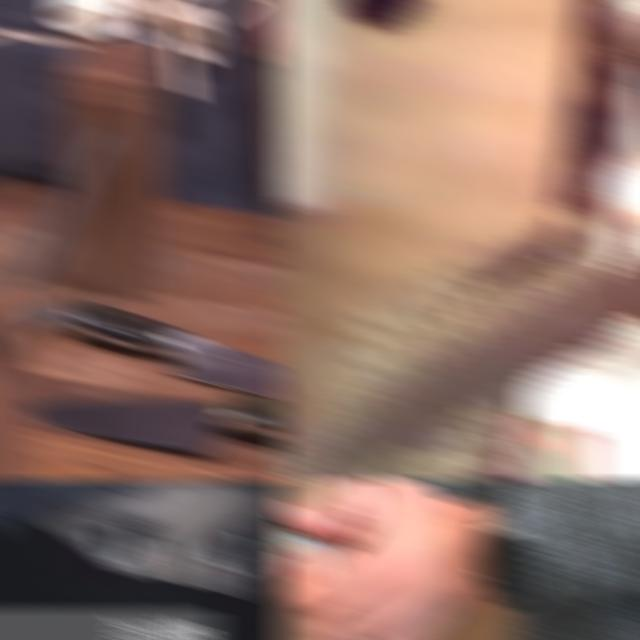Knife: (60, 297, 288, 406), (23, 392, 288, 453), (274, 478, 335, 572), (22, 288, 120, 337)
Knife_Handle: (275, 2, 640, 482), (0, 122, 106, 411), (274, 478, 456, 640)
